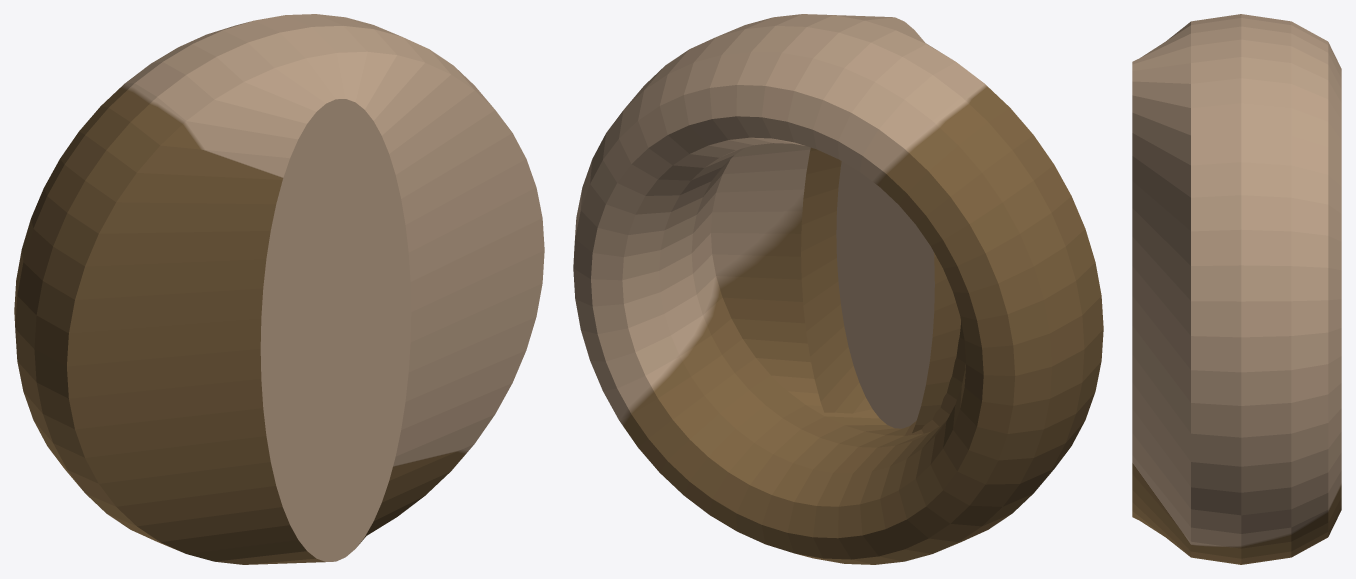
File: secon-obj-2.glb
The picture shows the model from 3 angles, left to right: view 1: azimuth 30°, elevation 25°; view 2: azimuth 150°, elevation 25°; view 3: azimuth 270°, elevation 25°; orthographic projection. The views are drawn at different scales.
Parts seen in each view (by area): view 1: Torus; view 2: Torus; view 3: Torus.
Part boxes in pixels (x1,y1,x2,y2): Torus: [14, 14, 544, 564]; Torus: [573, 14, 1103, 564]; Torus: [1132, 14, 1341, 564].
Bounding box in the file's own units: 2.5 × 2.5 × 0.9492.
Materials: 1 (1 with a texture image).
